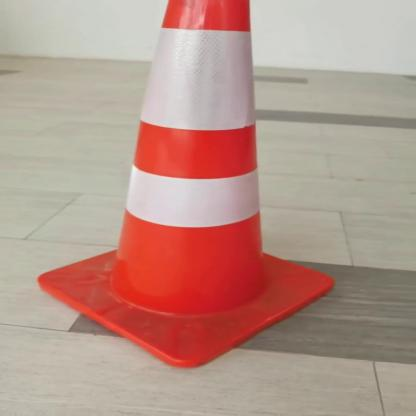cone: (24, 2, 350, 372)
